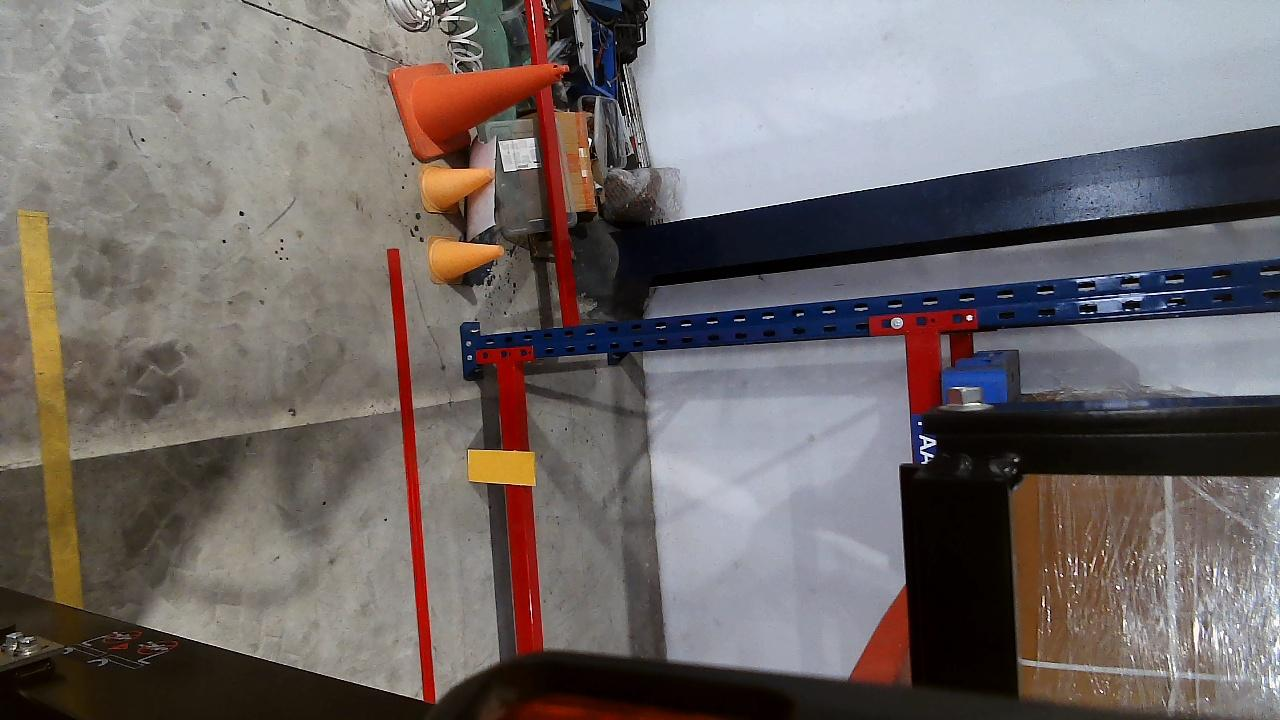h_rack: (499, 360, 542, 657), (905, 331, 939, 461)
orange_strip: (467, 449, 536, 486)
red_line: (388, 250, 436, 699)
yellow_line: (13, 208, 83, 603)
